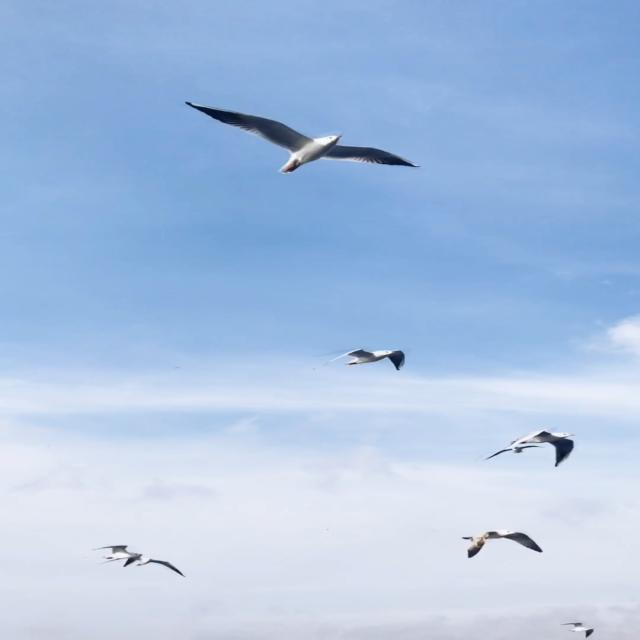bird: (182, 99, 422, 178), (84, 542, 190, 578), (452, 524, 547, 560), (320, 341, 412, 374), (502, 424, 571, 466), (484, 441, 550, 460), (552, 619, 604, 640)
